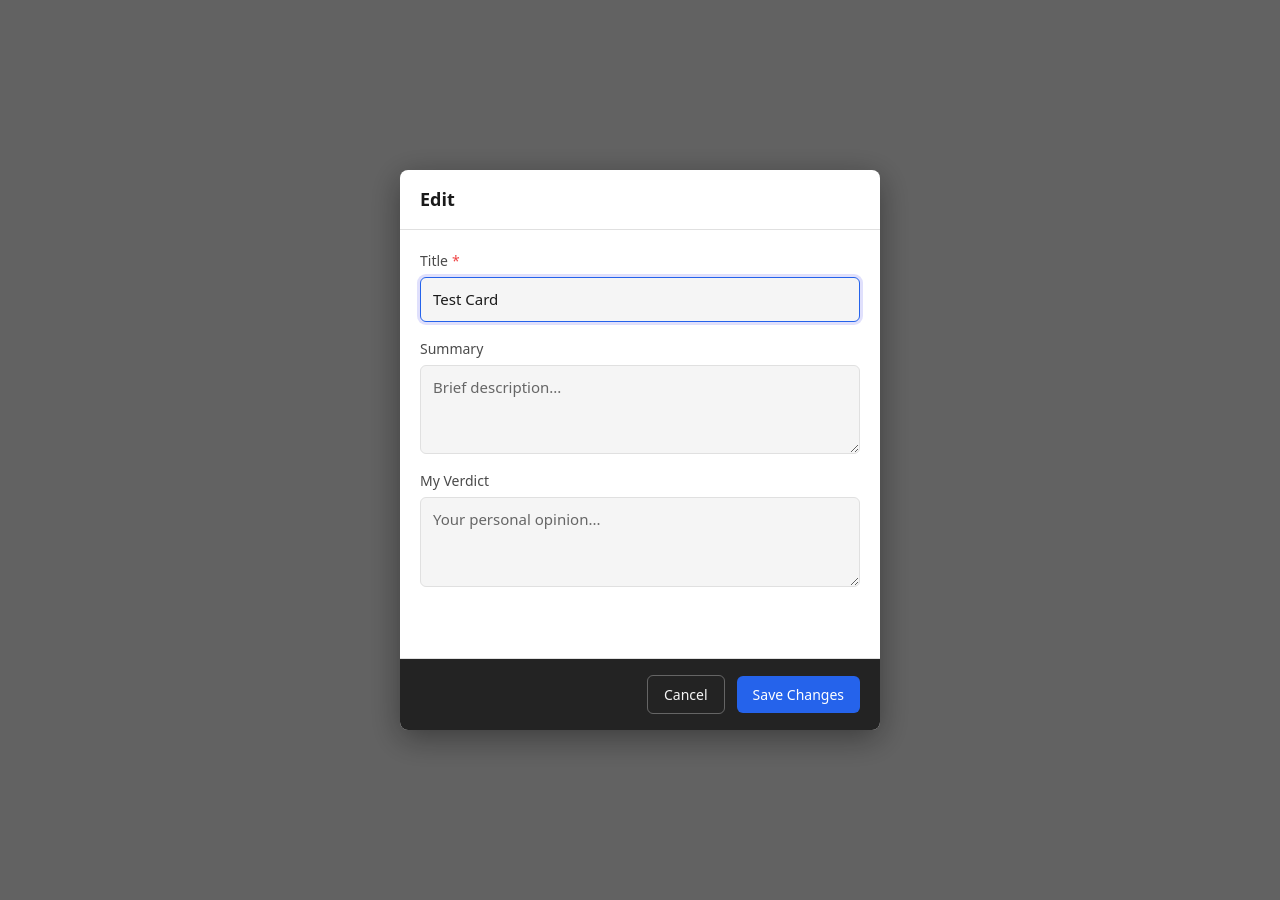
Test: EditForm untrusted myVerdict › shows an error message when the verdict fails validation
The image size is (1280, 900).
// Title is required, so an empty title surfaces its error span
Clear the field labelled "Title*" at (640, 299), box [420,277,860,322]
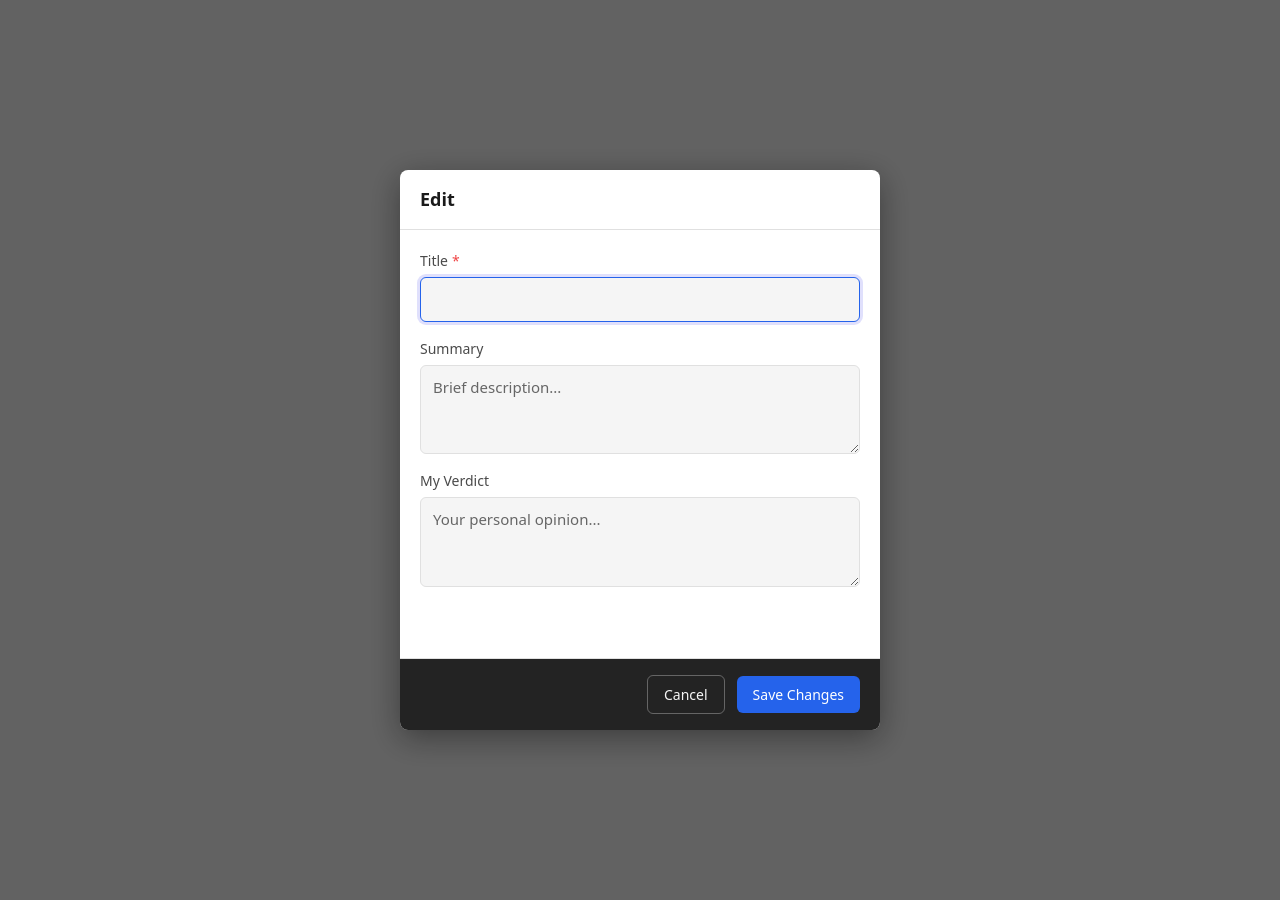
Click the button "Save Changes".
click(798, 694)  # box [737,676,860,713]
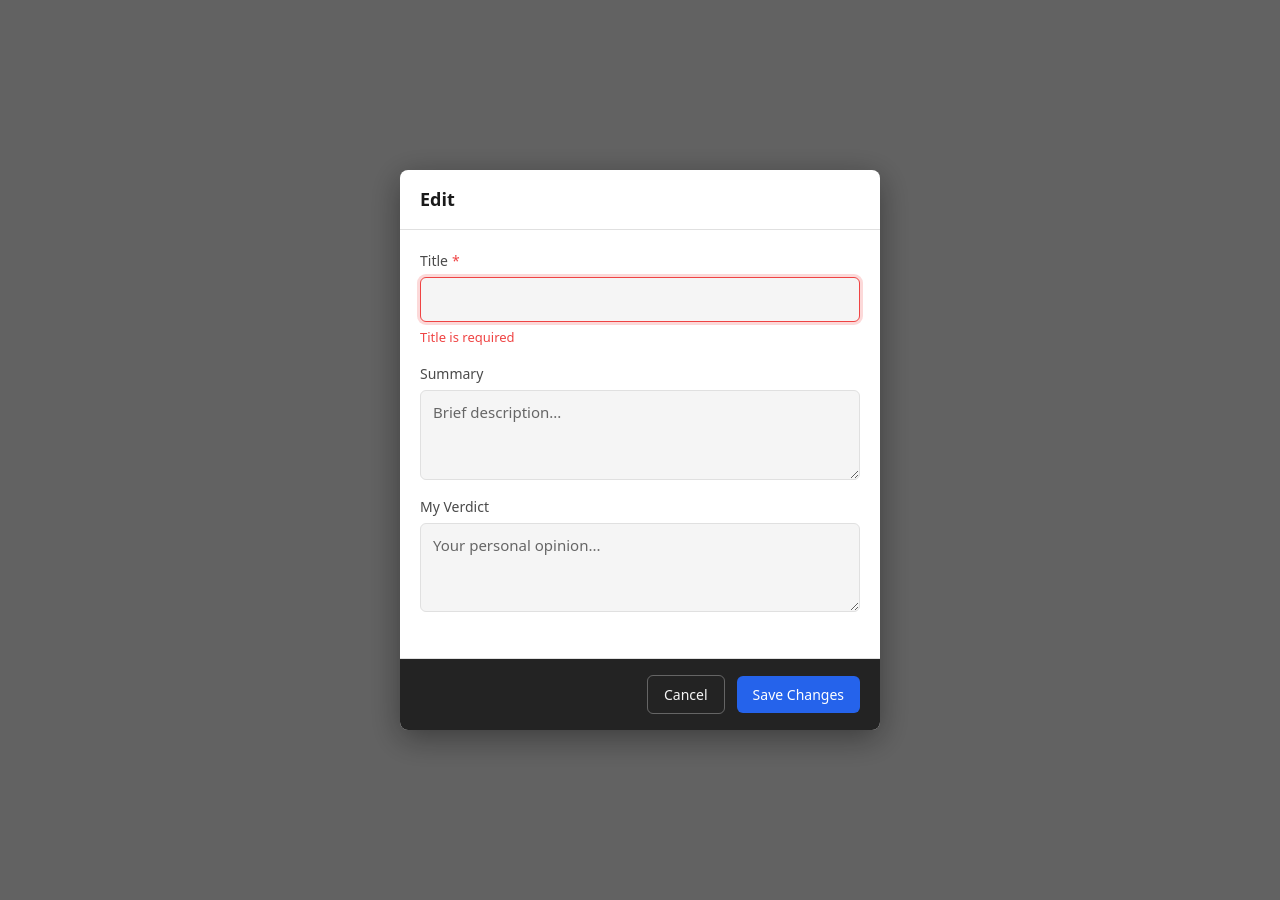
Check: the text "Title is required" is shown, box [420,328,515,346]
